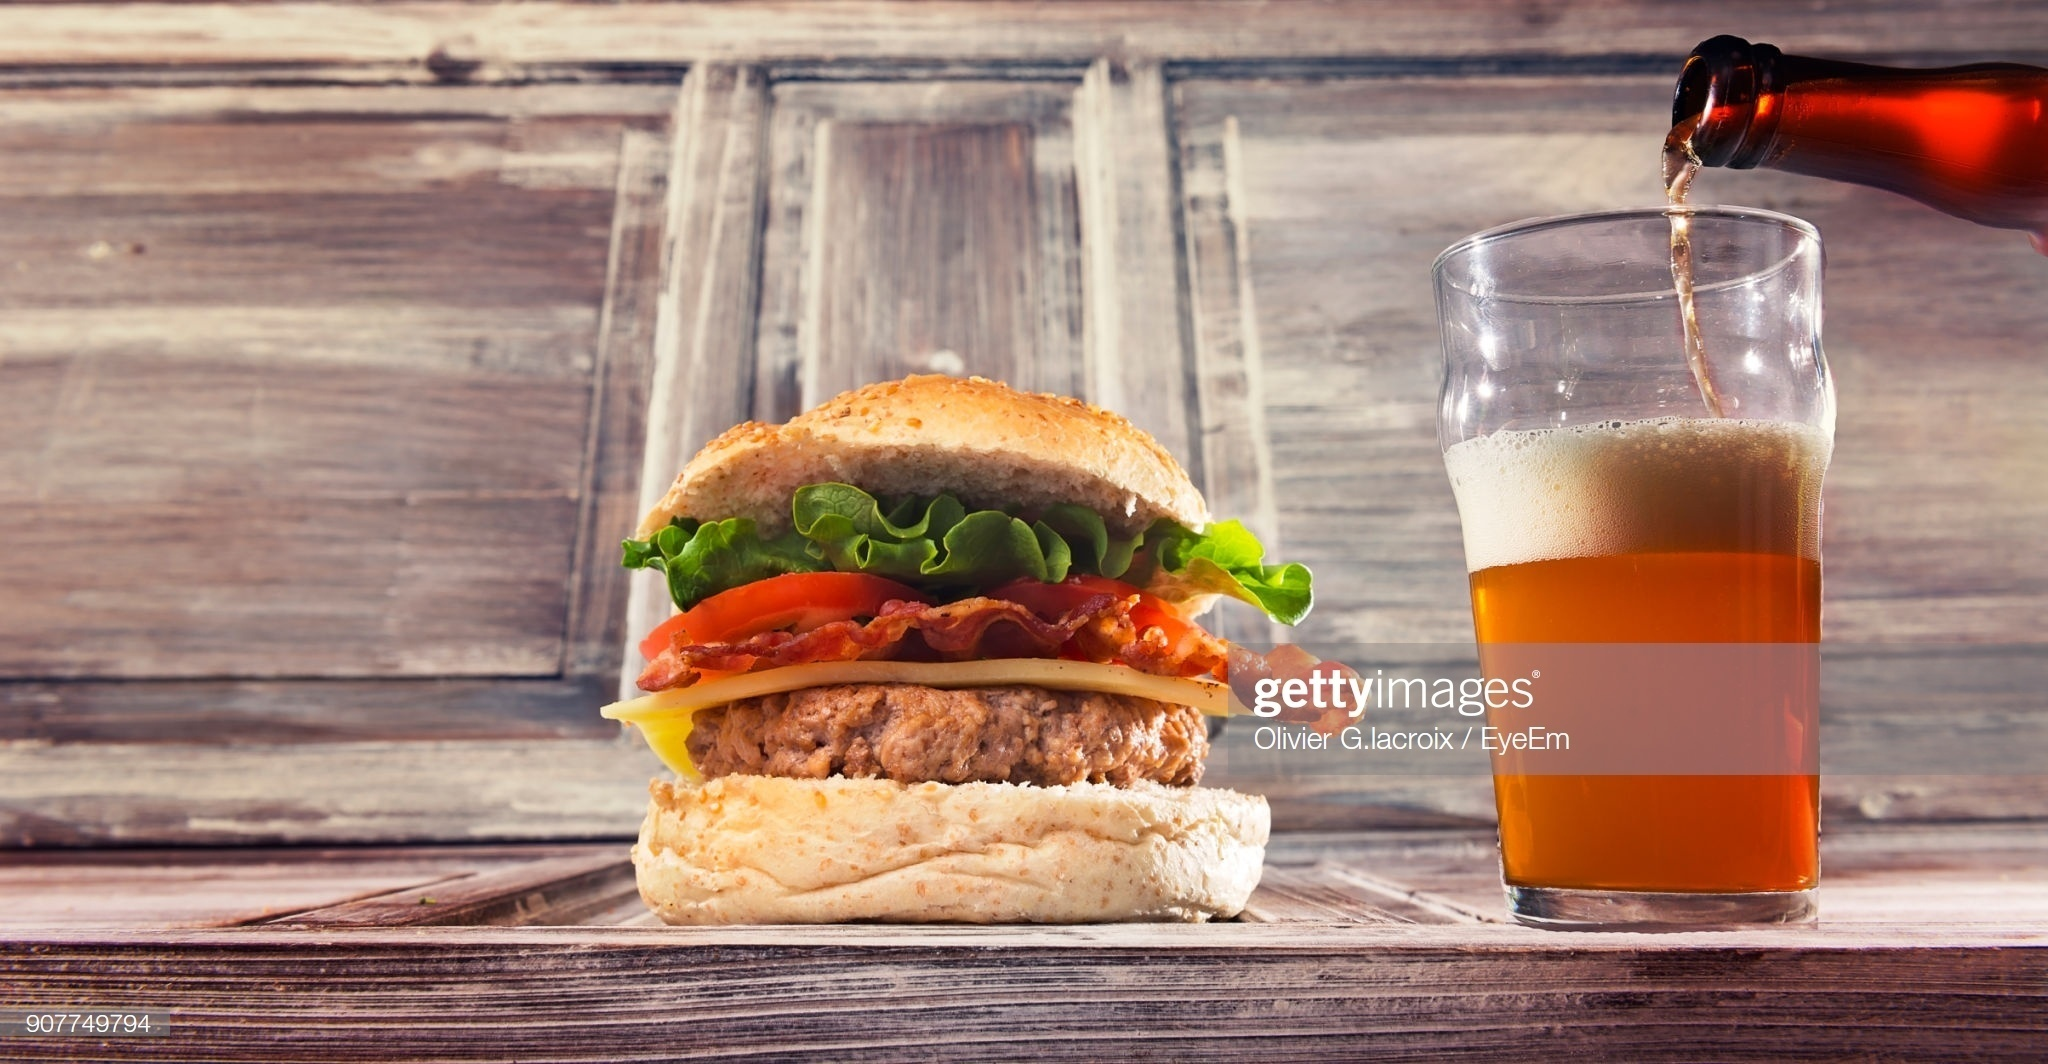whiskey: (1418, 207, 1810, 893)
